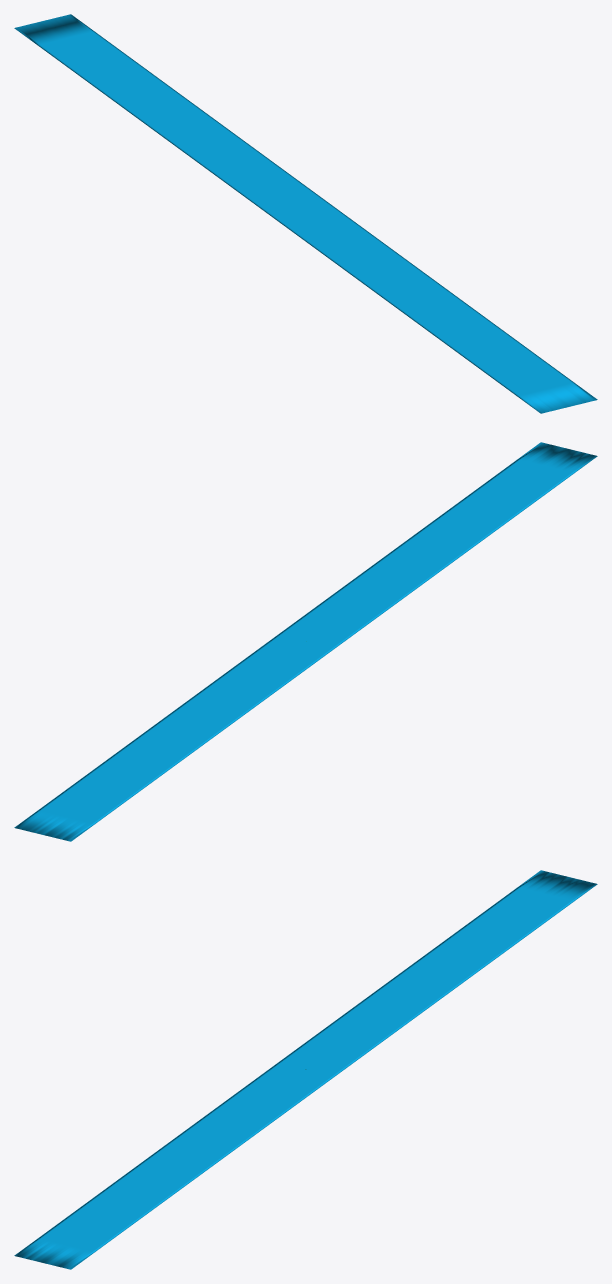
File: EvrmFloatingIsland.glb
3 views of the same model, one above another, from view 1: azimuth 30°, elevation 25°; view 2: azimuth 150°, elevation 25°; view 3: azimuth 330°, elevation 25° (orthographic).
Parts seen in each view (by area): view 1: Sea; view 2: Sea; view 3: Sea.
Boxes of the visible parts, x1,y1,x2,y2 form: Sea: (14,14,597,413); Sea: (14,442,597,841); Sea: (14,870,597,1269).
Size of the model in its own units: 5000 by 77.75 by 80000.
